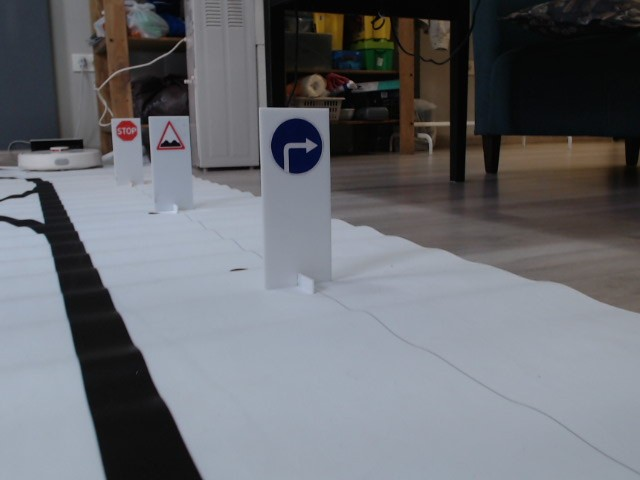Nerov: (156, 121, 185, 150)
Right: (269, 117, 324, 175)
Stop: (116, 120, 138, 141)
